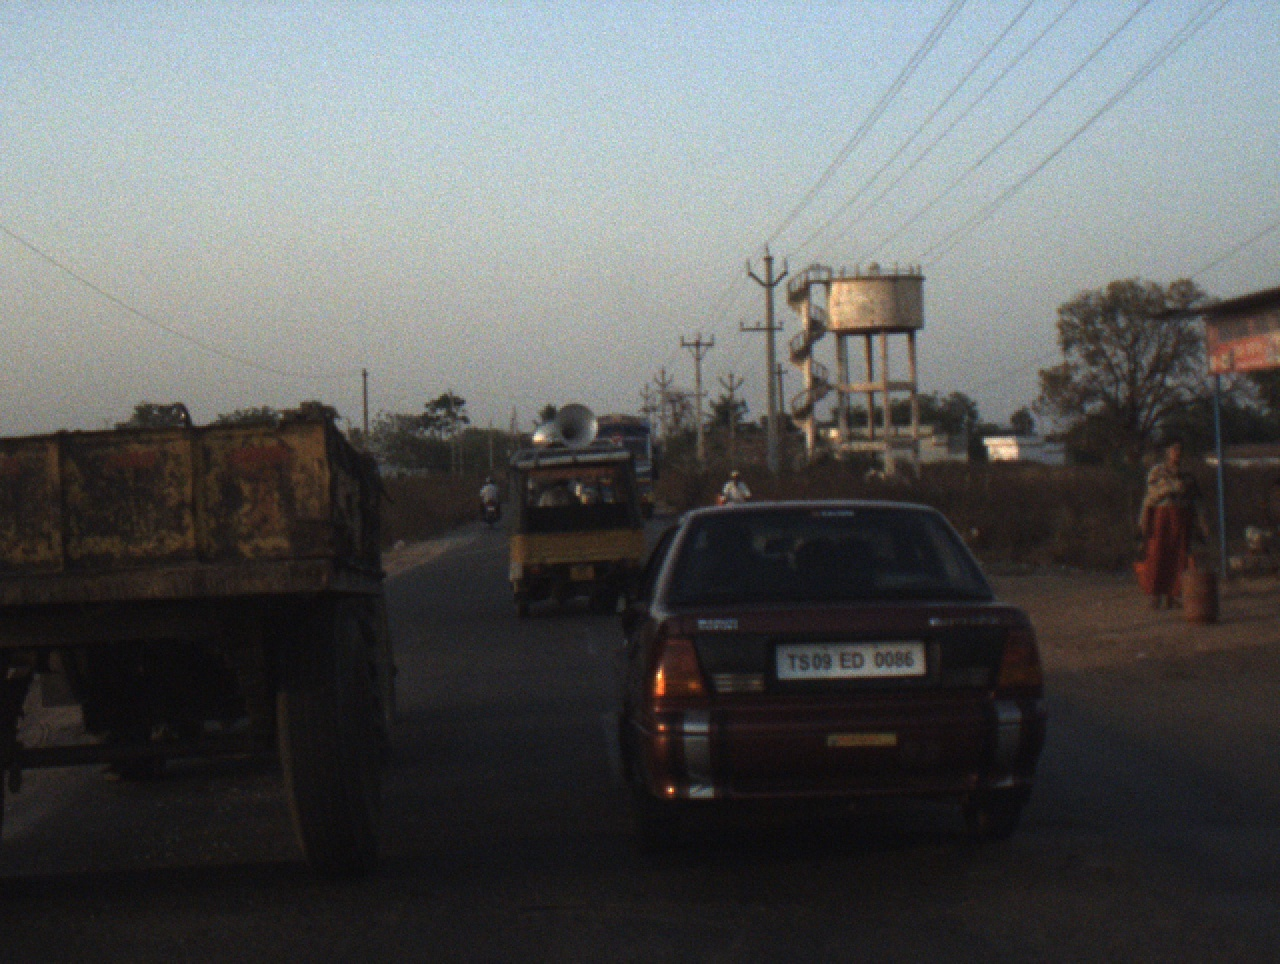autorickshaw: (498, 407, 645, 633)
car: (598, 499, 1047, 875)
motorcycle: (480, 502, 499, 522)
person: (1129, 436, 1208, 624)
rider: (716, 468, 750, 508), (475, 475, 498, 519)
truck: (588, 410, 660, 525)
vehicle fallback: (5, 412, 423, 886)
